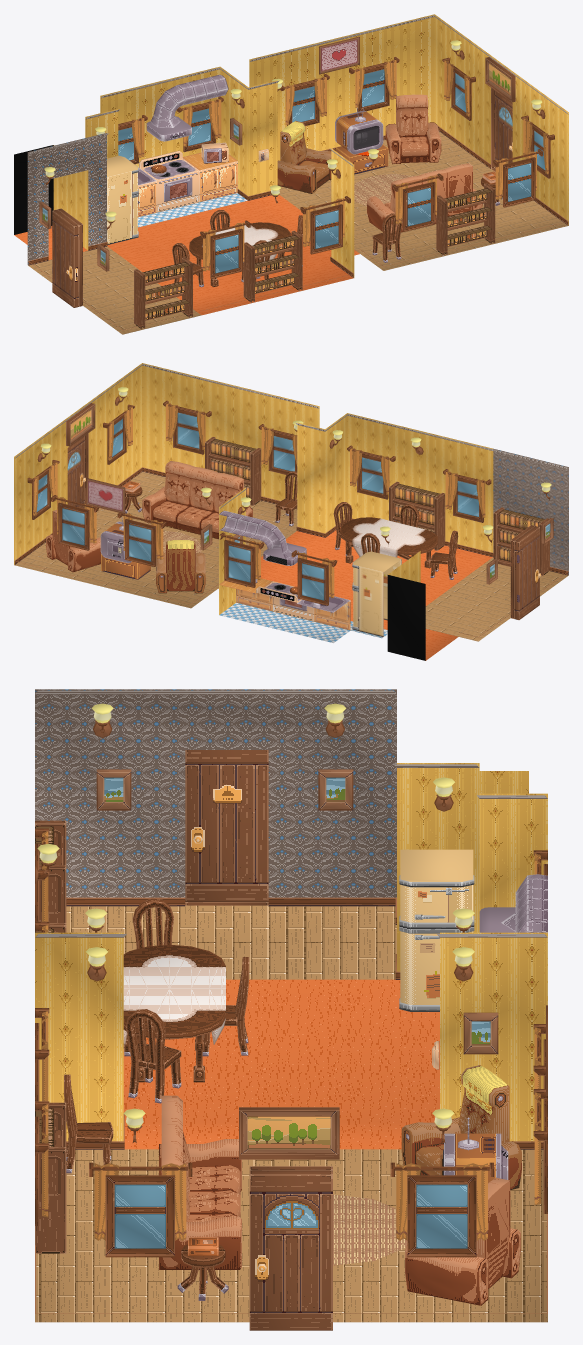
Rendered from toriels_kitchen_deltarune.glb.
3 renders of one model, top to bottom at view 1: azimuth 30°, elevation 25°; view 2: azimuth 150°, elevation 25°; view 3: azimuth 270°, elevation 25°, orthographic. The views are drawn at different scales.
Visible parts, largest first — view 1: Kitchen, Kitchen.002, Kitchen.001; view 2: Kitchen, Kitchen.002; view 3: Kitchen, Kitchen.002, Kitchen.001.
Part boxes in pixels (bbox=[...]): Kitchen: bbox=[14, 14, 568, 334]; Kitchen.002: bbox=[39, 36, 554, 278]; Kitchen.001: bbox=[354, 173, 413, 206]; Kitchen: bbox=[14, 363, 568, 660]; Kitchen.002: bbox=[27, 387, 553, 608]; Kitchen: bbox=[35, 689, 547, 1330]; Kitchen.002: bbox=[35, 703, 547, 1257]; Kitchen.001: bbox=[333, 1194, 407, 1265].
Size of the model in its own units: 15.56 by 3.56 by 7.63.
Materials: 14 (13 with a texture image).
